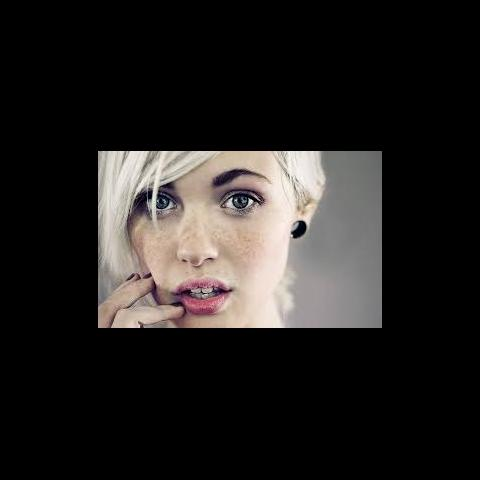opened: (140, 173, 270, 230)
